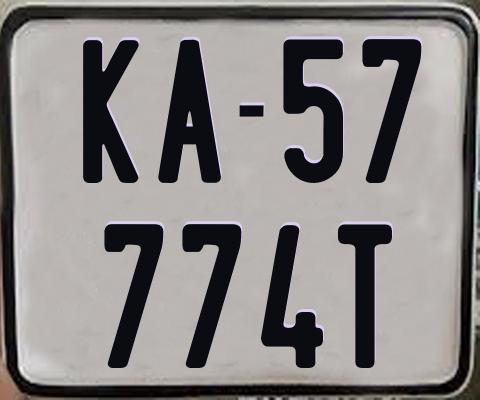4: (259, 225, 326, 369)
5: (280, 38, 340, 188)
7: (182, 221, 246, 368), (360, 37, 423, 186), (101, 224, 163, 371)
A: (157, 40, 226, 187)
K: (81, 37, 137, 180)
T: (337, 224, 391, 370)
